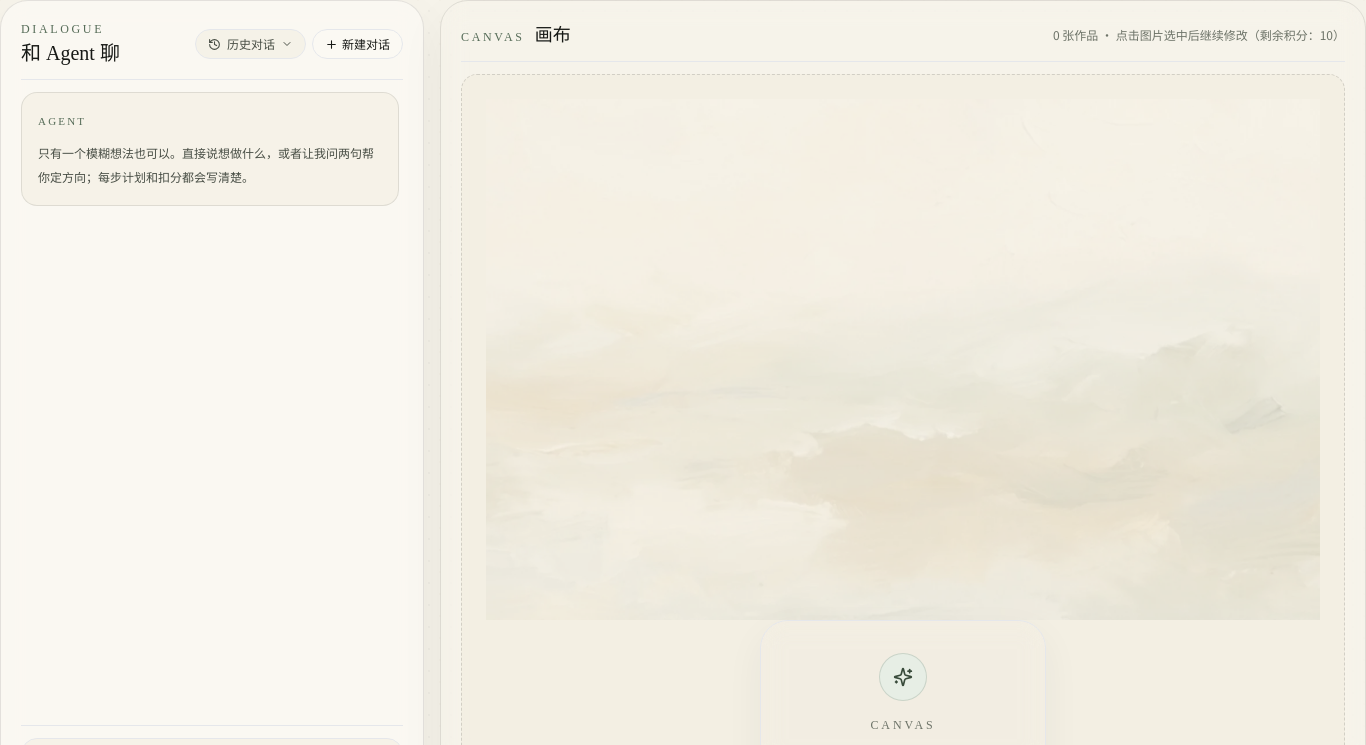
Test: AgentWorkbench history switcher › silently degrades to empty session list when GET /api/agent/sessions fails
Expected: the text "DIALOGUE" is shown, [21, 22, 104, 36]
Expected: the heading "和 Agent 聊" is shown, [21, 39, 120, 67]
Expanding history drawer should show empty hint without rendering an error banner
Click the button "历史对话". click: [250, 44]
box: [195, 29, 306, 59]
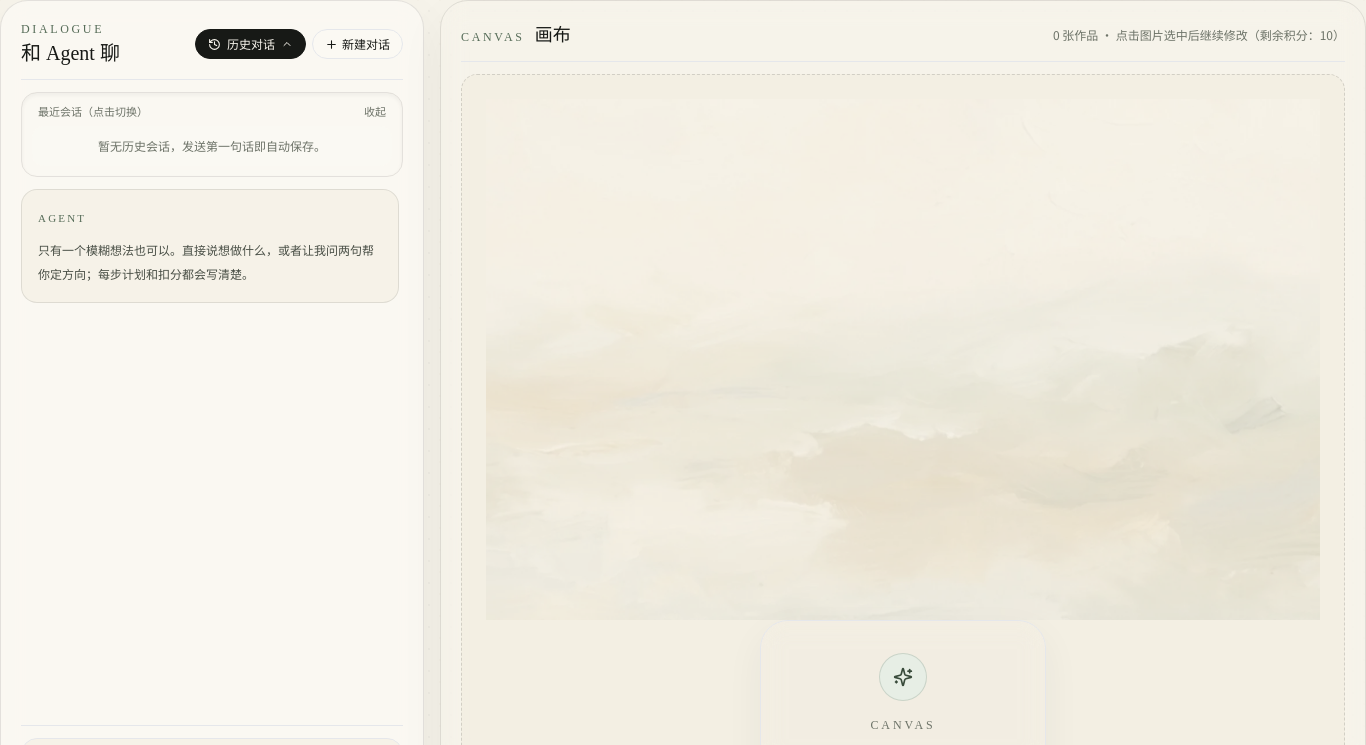
Result: the text "暂无历史会话，发送第一句话即自动保存。" is shown at [32, 126, 392, 166]
